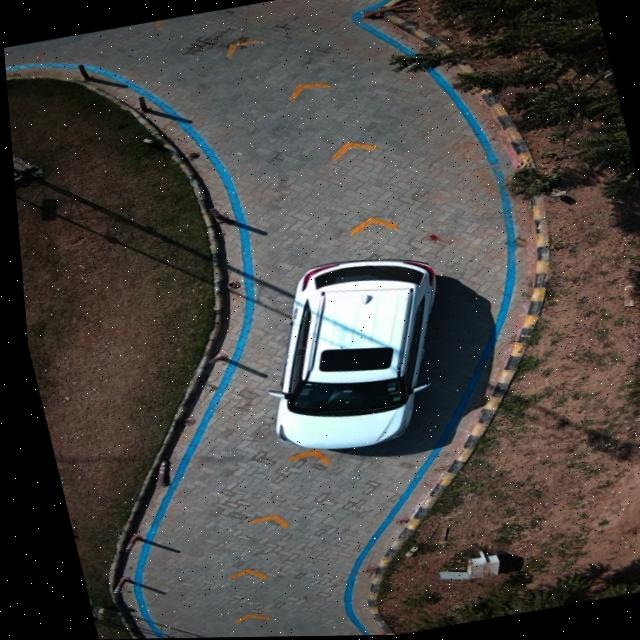car: (271, 260, 433, 452)
